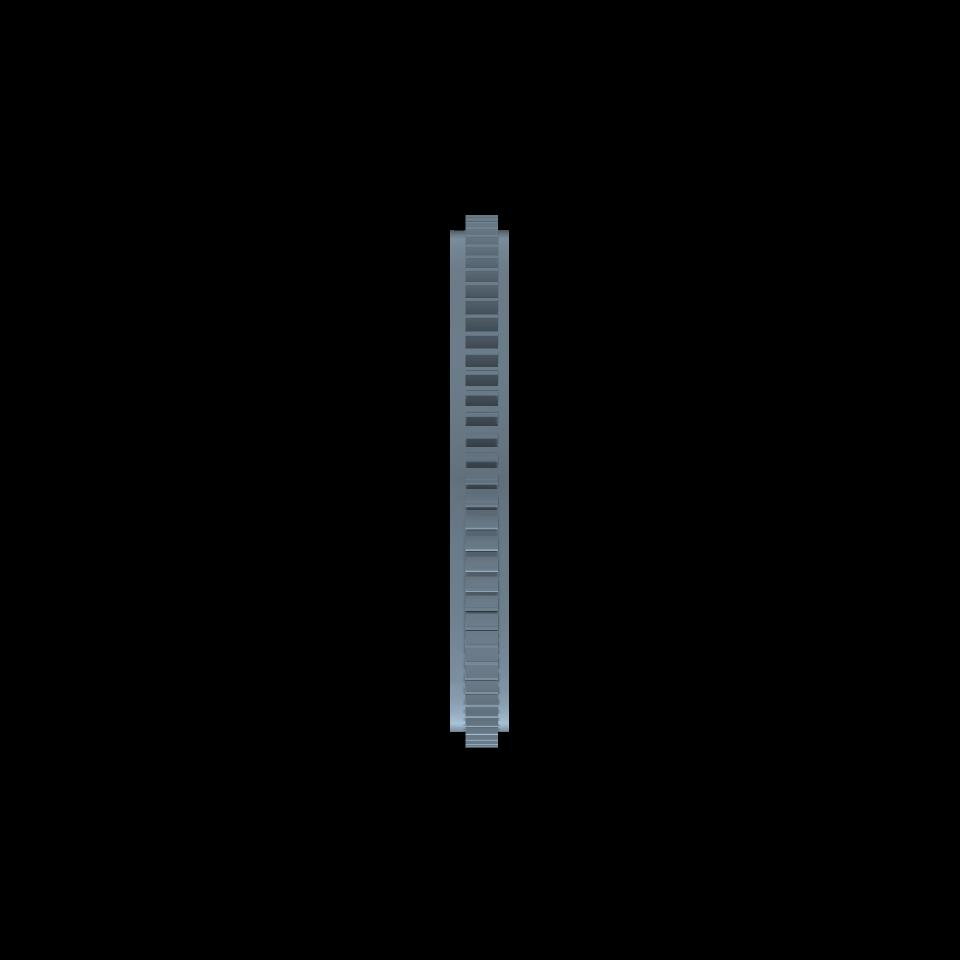Straight: (465, 215, 499, 746)
